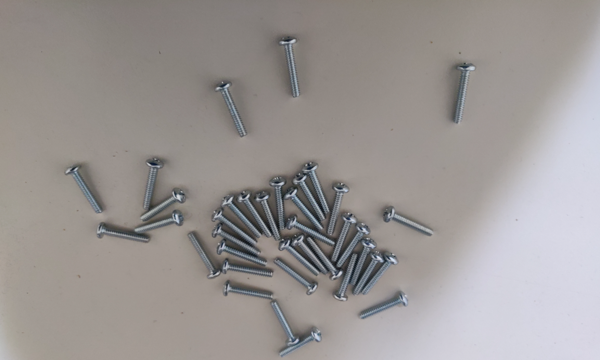longscrew: (63, 166, 103, 213), (131, 154, 164, 210), (276, 38, 305, 100), (217, 78, 245, 140), (186, 231, 222, 279), (237, 189, 270, 240), (282, 189, 322, 231), (291, 173, 325, 222), (301, 159, 330, 215), (212, 211, 259, 245), (138, 187, 187, 219), (279, 260, 319, 299), (382, 208, 437, 236), (361, 253, 399, 293), (287, 216, 335, 247), (338, 222, 368, 270), (359, 295, 408, 324), (453, 59, 474, 126), (224, 200, 261, 238), (280, 241, 317, 279), (216, 242, 266, 269), (92, 224, 149, 247), (255, 187, 280, 239), (310, 239, 340, 281), (296, 234, 326, 276), (213, 228, 261, 254), (332, 211, 356, 262), (355, 252, 382, 296), (281, 332, 322, 358), (221, 284, 274, 304), (221, 262, 274, 282), (337, 254, 359, 302), (272, 303, 298, 343), (268, 171, 285, 231), (330, 181, 347, 237), (352, 240, 373, 284), (135, 214, 187, 231)
